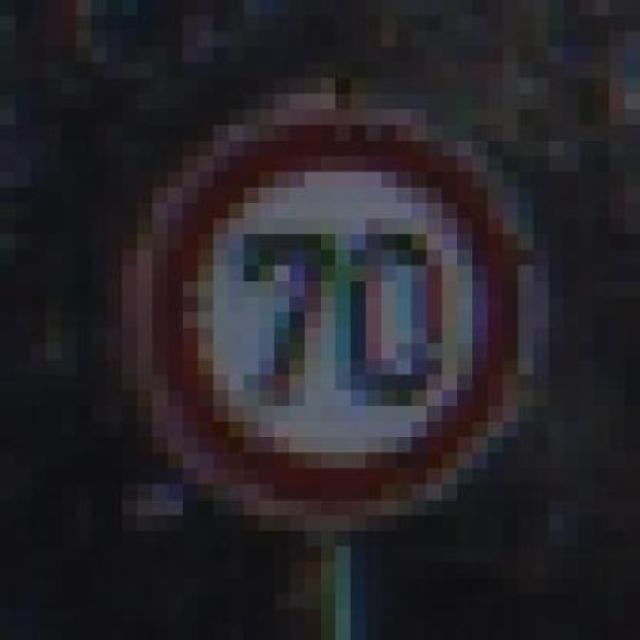forb_speed_over_70: (140, 113, 531, 510)
